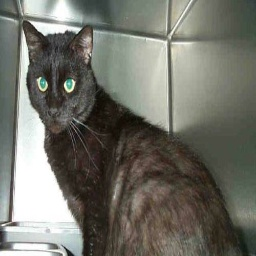cat: (23, 21, 238, 256)
